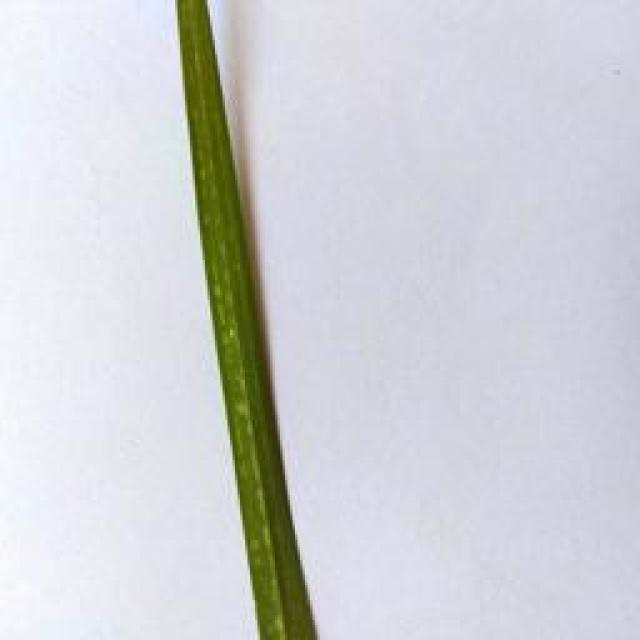Healthy-Plant: (172, 0, 318, 640)
